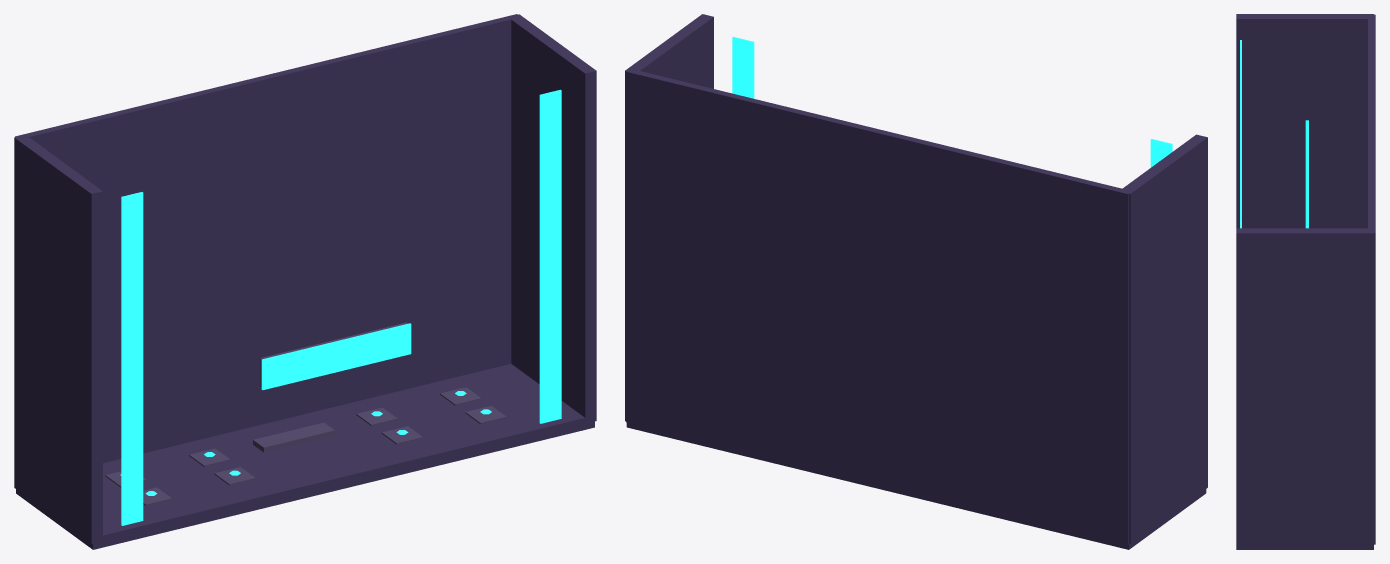
File: marcos_uv_arcade_r9.glb
The picture shows the model from 3 angles, left to right: view 1: azimuth 30°, elevation 25°; view 2: azimuth 150°, elevation 25°; view 3: azimuth 270°, elevation 25°; orthographic projection. The views are drawn at different scales.
Parts seen in each view (by area): view 1: ceiling, back wall, side wall, side wall.001, wall base glow, wall base glow.001, cyan table edge, clock casing; view 2: ceiling, side wall, side wall.001, back wall, wall base glow.001; view 3: side wall.001, side wall, ceiling, back wall, corner light channel, wall base glow.
Part boxes in pixels (x1,y1,x2,y2): ceiling: (15, 14, 520, 463); back wall: (16, 364, 594, 549); side wall: (14, 137, 102, 544); side wall.001: (508, 14, 596, 421); wall base glow: (121, 192, 143, 525); wall base glow.001: (539, 89, 561, 423); cyan table edge: (261, 323, 411, 389); clock casing: (253, 422, 334, 452); ceiling: (625, 68, 1131, 544); side wall: (1120, 134, 1207, 544); side wall.001: (625, 14, 713, 420); back wall: (626, 422, 1206, 549); wall base glow.001: (732, 36, 754, 98); side wall.001: (1236, 228, 1373, 545); side wall: (1236, 14, 1373, 228); ceiling: (1368, 14, 1375, 544); back wall: (1236, 545, 1373, 549); corner light channel: (1305, 120, 1308, 228); wall base glow: (1240, 40, 1241, 221).
Size of the model in its own units: 24.15 by 16.28 by 6.48.
